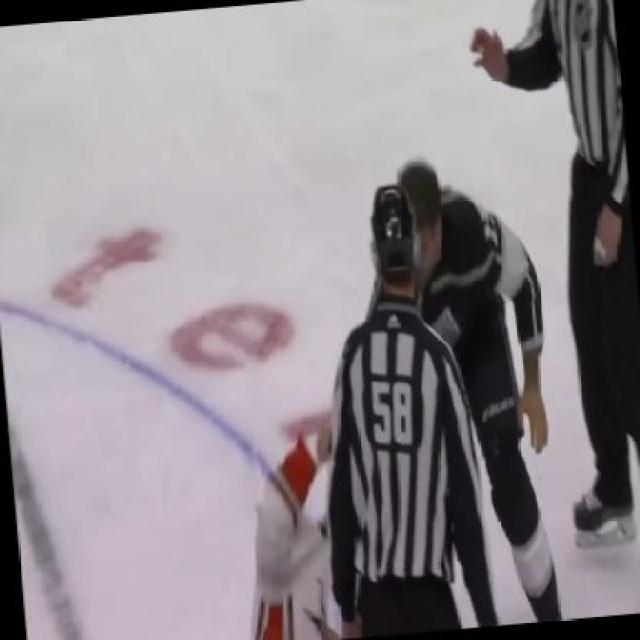fight: (241, 153, 569, 639)
non-fight: (470, 0, 638, 545), (319, 173, 498, 640)
